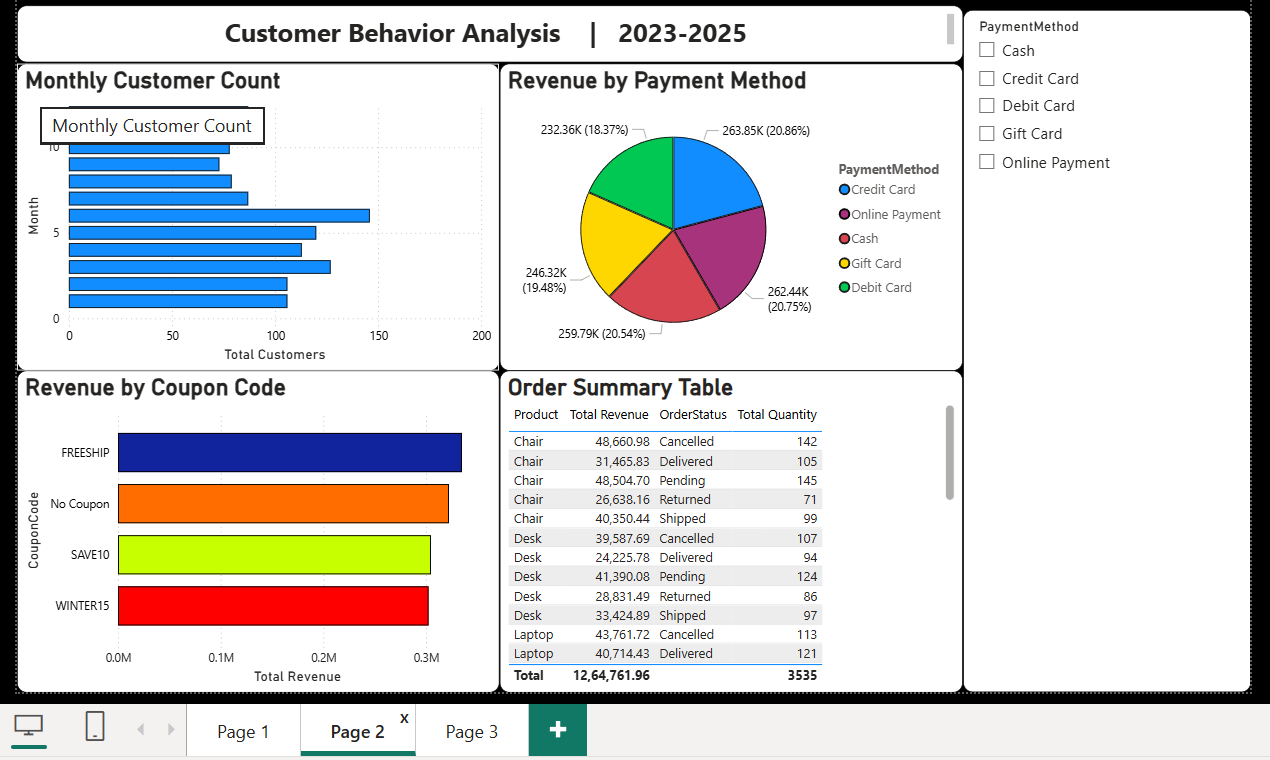

The dashboard page shown, as its layout file describes it:
{"tool":"powerbi","page":{"name":"Page 2","canvas":[1280,720],"ordinal":1},"visuals":[{"type":"pieChart","title":"Revenue by Payment Method","fields":{"Y":["Fact Table.Total Revenue"],"Category":["Fact Table.PaymentMethod"]},"box":[501,68,480.9,318.5],"z":0},{"type":"clusteredBarChart","title":"Revenue by Coupon Code","fields":{"Category":["Fact Table.CouponCode"],"Y":["Fact Table.Total Revenue"]},"box":[0,386.6,501,334],"z":1000},{"type":"clusteredBarChart","title":"Monthly Customer Count","fields":{"Y":["Fact Table.Total Customers"],"Category":["Fact Table.Month"]},"box":[0,68,501,318.5],"z":2000},{"type":"tableEx","title":"Order Summary Table","fields":{"Values":["Fact Table.Product","Fact Table.Total Revenue","Fact Table.OrderStatus","Fact Table.Total Quantity"]},"box":[501,386.6,480.9,334],"z":3000},{"type":"slicer","fields":{"Values":["Fact Table.PaymentMethod"]},"box":[981.8,12.4,298.4,708.2],"z":4000},{"type":"textbox","box":[0,7.7,981.8,58.8],"z":5000}]}

Visuals, with their boxes on the page's 1280x720 design canvas (x1, y1, x2, y2). These are canvas units, not pixel positions in the 1270x760 screenshot, which may show the page scaled, cropped or inside an application window:
"Revenue by Payment Method" pieChart: 501:68:982:386
"Revenue by Coupon Code" clusteredBarChart: 0:387:501:721
"Monthly Customer Count" clusteredBarChart: 0:68:501:386
"Order Summary Table" tableEx: 501:387:982:721
slicer - Fact Table.PaymentMethod: 982:12:1280:721
textbox: 0:8:982:66
